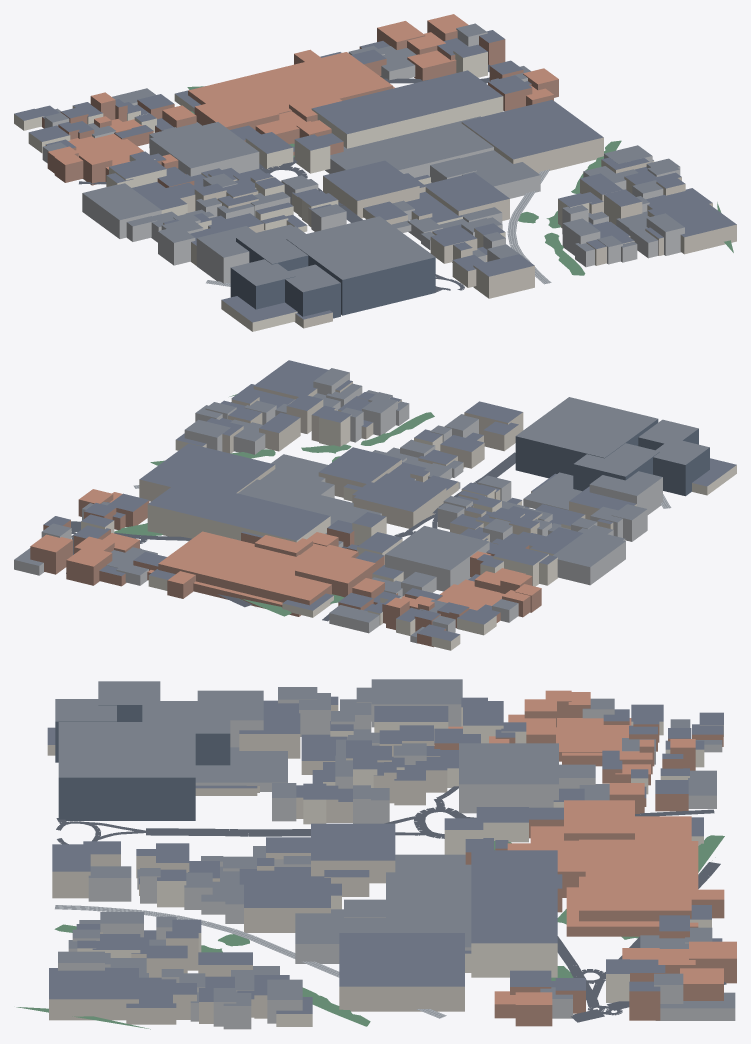
File: tile_3_1_lod1.glb
3 renders of one model, top to bottom at view 1: azimuth 30°, elevation 25°; view 2: azimuth 150°, elevation 25°; view 3: azimuth 270°, elevation 25°, orthographic. The views are drawn at different scales.
Visible parts, largest first — view 1: TileRoot; view 2: TileRoot; view 3: TileRoot.
Part boxes in pixels (x1=…): TileRoot: x1=14, y1=14, x2=736, y2=331; TileRoot: x1=14, y1=360, x2=736, y2=650; TileRoot: x1=16, y1=679, x2=736, y2=1029.
Bounding box in the file's own units: 438 × 45.34 × 443.
